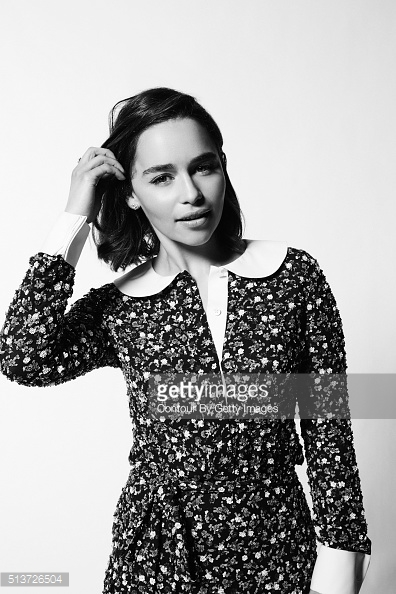em pe: (11, 78, 348, 404)
